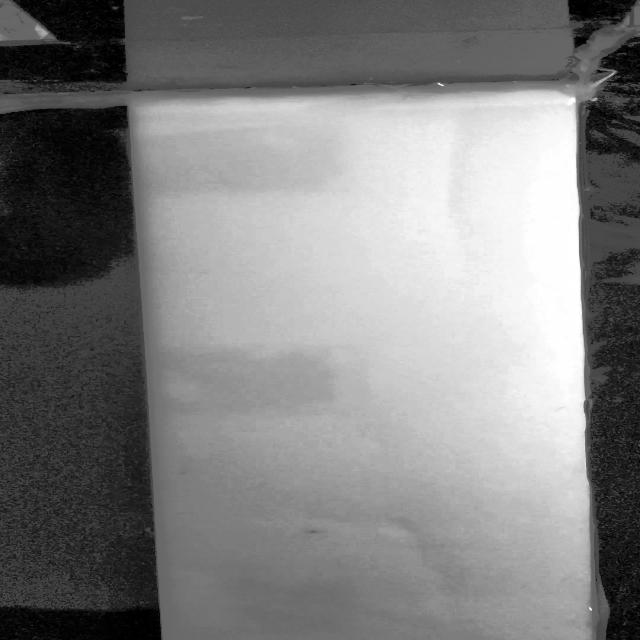shrimp: (300, 525, 329, 537)
